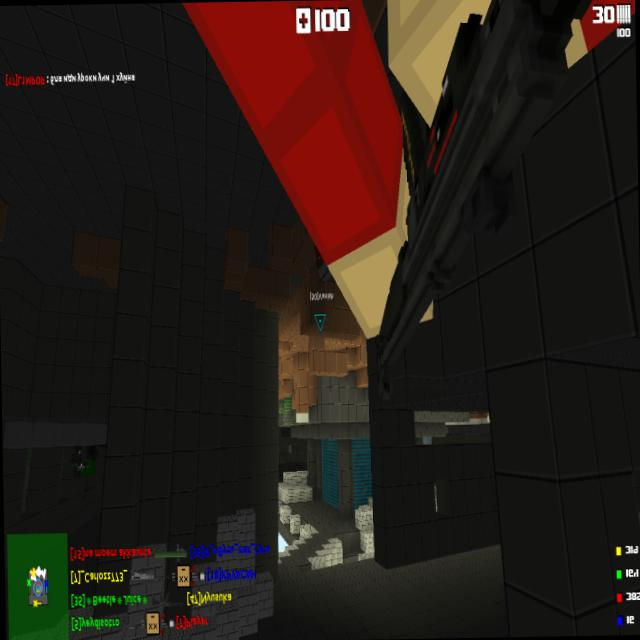enemy: (70, 445, 87, 479)
